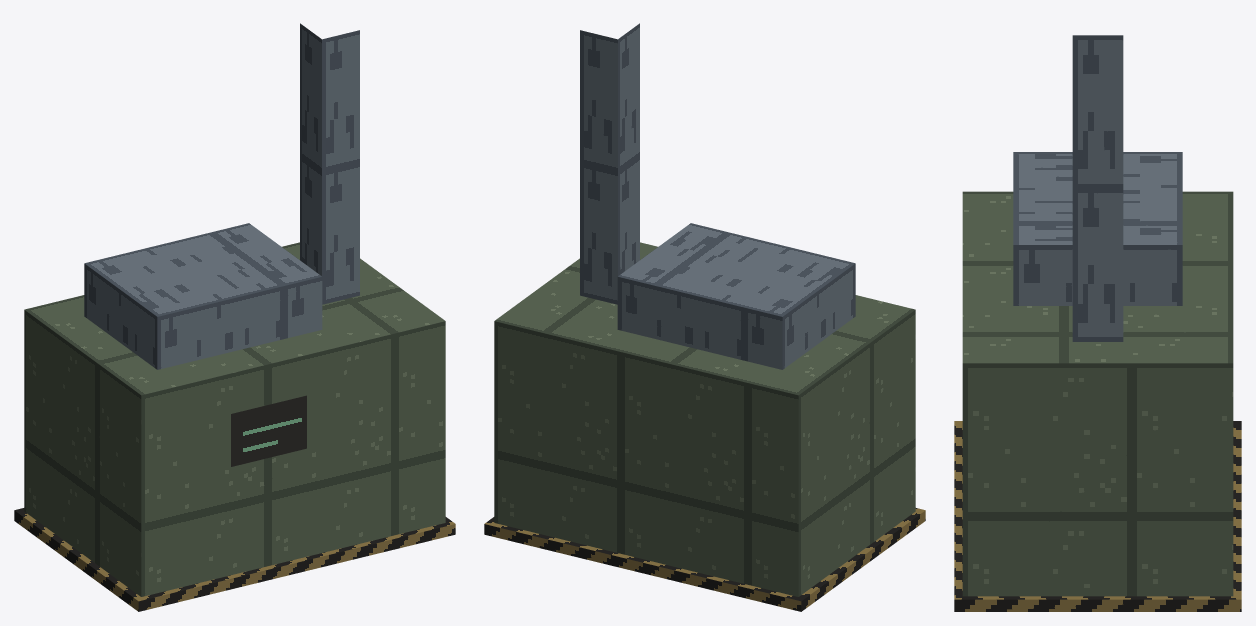
Rendered from generator.glb.
3 views of the same model, side by side, from view 1: azimuth 30°, elevation 25°; view 2: azimuth 150°, elevation 25°; view 3: azimuth 270°, elevation 25° (orthographic). The views are drawn at different scales.
Parts seen in each view (by area): view 1: generator mesh; view 2: generator mesh; view 3: generator mesh.
Boxes of the visible parts, left/top/right/bottom form: generator mesh: left=14, top=23, right=455, bottom=611; generator mesh: left=484, top=23, right=925, bottom=611; generator mesh: left=954, top=35, right=1241, bottom=611.
Size of the model in its own units: 2.5 by 3.6 by 1.7.
Materials: 4 (4 with a texture image).
